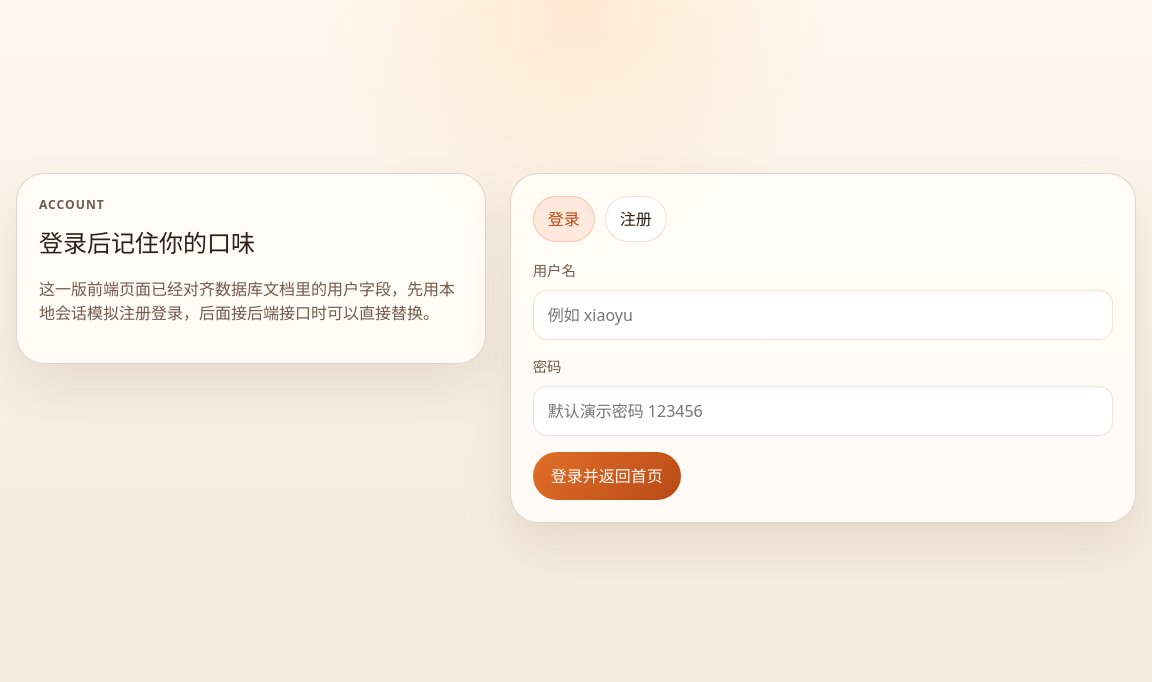
Scenario: AuthView › renders auth tabs and register action
Click the button "注册" at (636, 219), box [605,196,667,242]
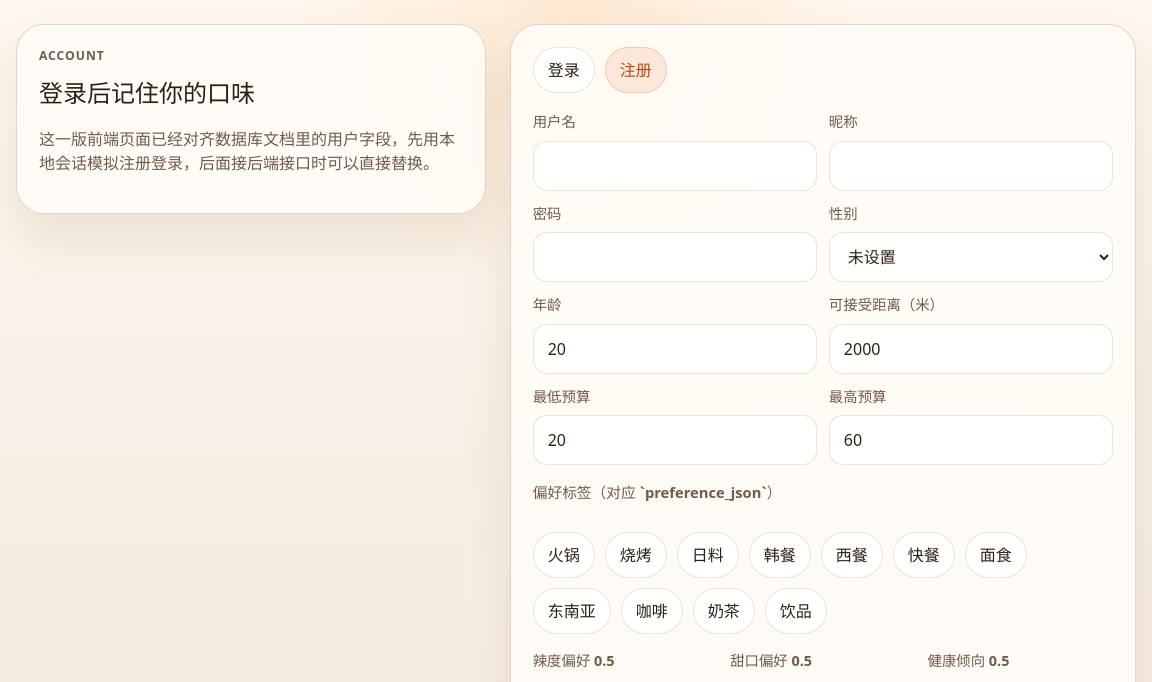
Expected: the text "偏好标签" is shown, [533,482,781,502]
